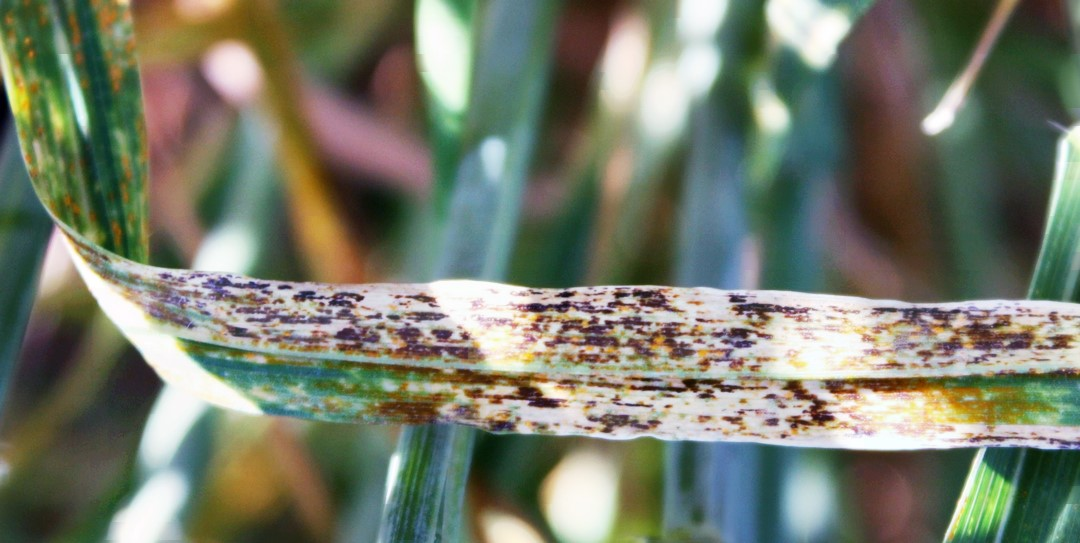Leaf Rust: (265, 276, 886, 457)
